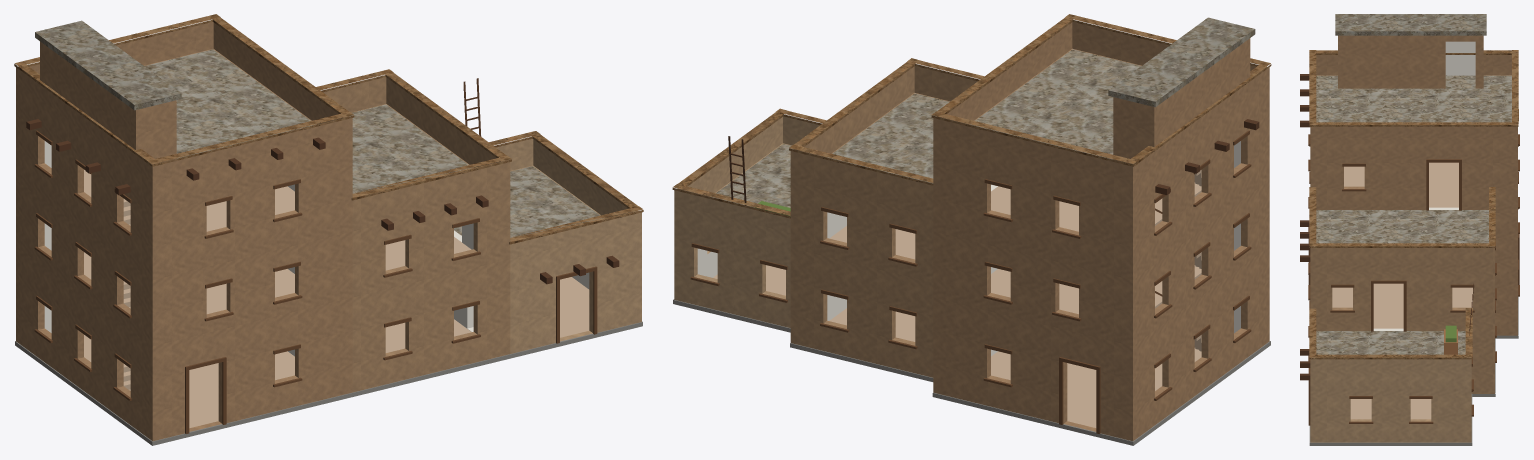
Rendered from cr-pueblo-terraces.towns-v2.lod0.glb.
3 views of the same model, side by side, from view 1: azimuth 30°, elevation 25°; view 2: azimuth 150°, elevation 25°; view 3: azimuth 270°, elevation 25° (orthographic). The views are drawn at different scales.
Visible parts, largest first — view 1: cr-pueblo-terraces; view 2: cr-pueblo-terraces; view 3: cr-pueblo-terraces.
Boxes of the visible parts, box(x1,y1,x2,y2) form: cr-pueblo-terraces: box(14, 14, 643, 445); cr-pueblo-terraces: box(672, 14, 1271, 445); cr-pueblo-terraces: box(1300, 14, 1519, 445).
Bounding box in the file's own units: 19.14 × 11.97 × 9.54.
Materials: 5 (2 with a texture image).
